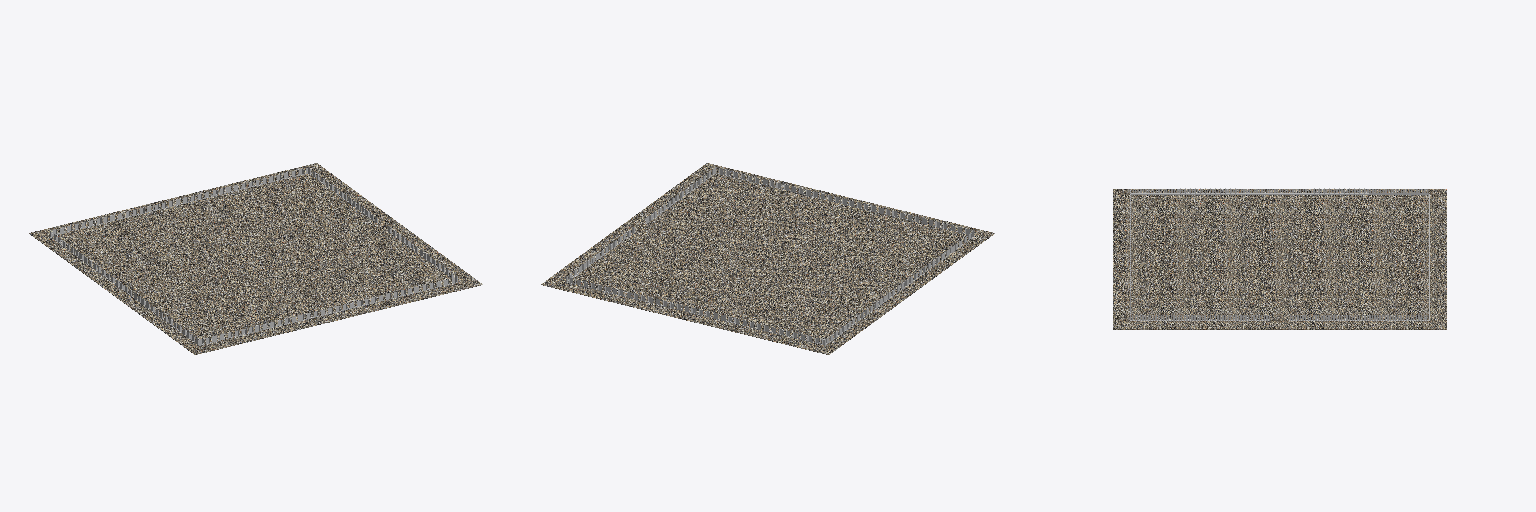
3 views of the same model, side by side, from view 1: azimuth 30°, elevation 25°; view 2: azimuth 150°, elevation 25°; view 3: azimuth 270°, elevation 25° (orthographic).
Parts seen in each view (by area): view 1: yuka.001, saku.001, saku.003, saku.002, saku.005; view 2: yuka.001, saku.001, saku.003, saku.002, saku.005; view 3: yuka.001, saku.002, saku.005.
Boxes of the visible parts, x1=… form: yuka.001: x1=29, y1=163, x2=482, y2=354; saku.001: x1=199, y1=277, x2=457, y2=345; saku.003: x1=53, y1=168, x2=307, y2=235; saku.002: x1=49, y1=231, x2=198, y2=345; saku.005: x1=308, y1=167, x2=457, y2=281; yuka.001: x1=541, y1=163, x2=994, y2=354; saku.001: x1=716, y1=168, x2=973, y2=234; saku.003: x1=566, y1=277, x2=824, y2=345; saku.002: x1=825, y1=231, x2=974, y2=345; saku.005: x1=566, y1=167, x2=715, y2=281; yuka.001: x1=1113, y1=189, x2=1446, y2=329; saku.002: x1=1131, y1=188, x2=1428, y2=194; saku.005: x1=1131, y1=315, x2=1429, y2=320.
Size of the model in its own units: 160 by 3.37 by 160.
2 materials, 1 textured.